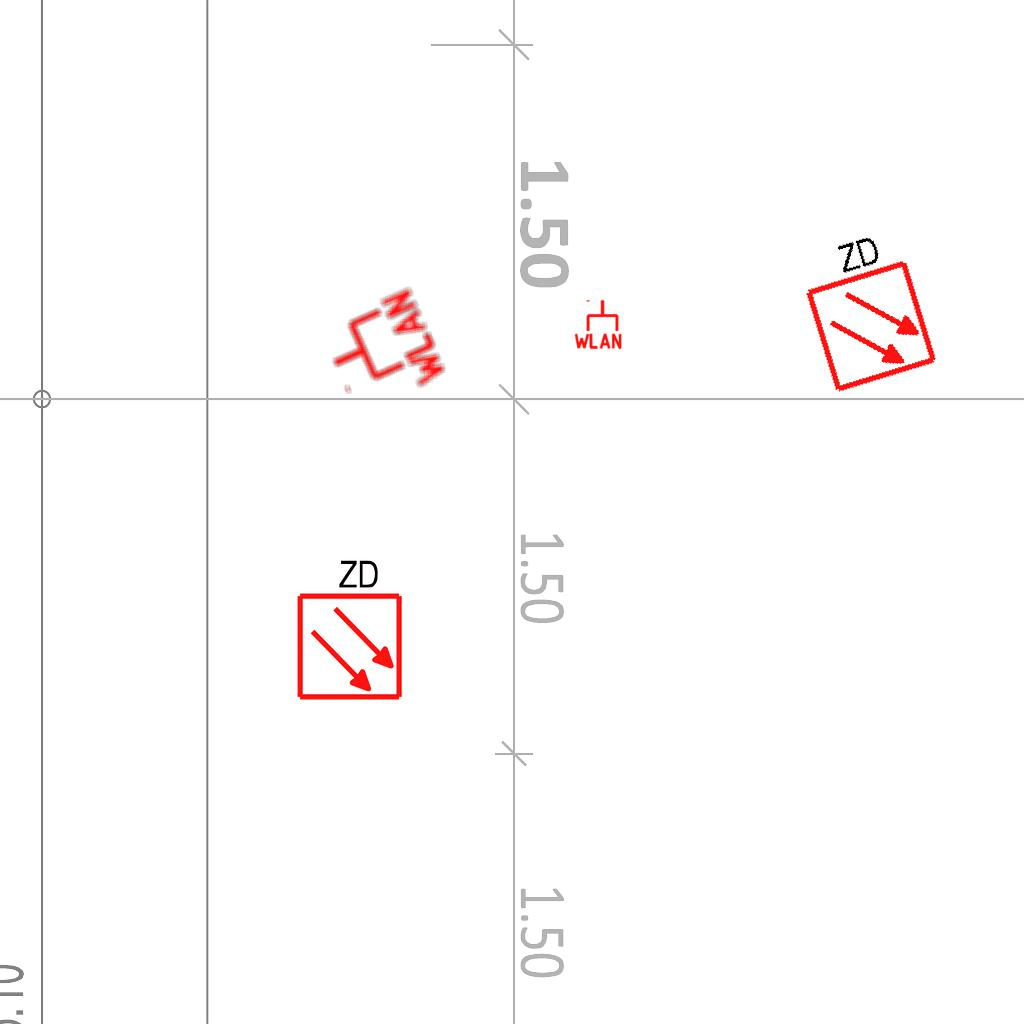WLAN: (313, 283, 452, 421), (572, 298, 624, 350)
ZD_Melder_in_Zwischendecke_mit_Revisionsoeffnung_mind_40_x_40_cm: (787, 220, 941, 397), (291, 553, 405, 702)
